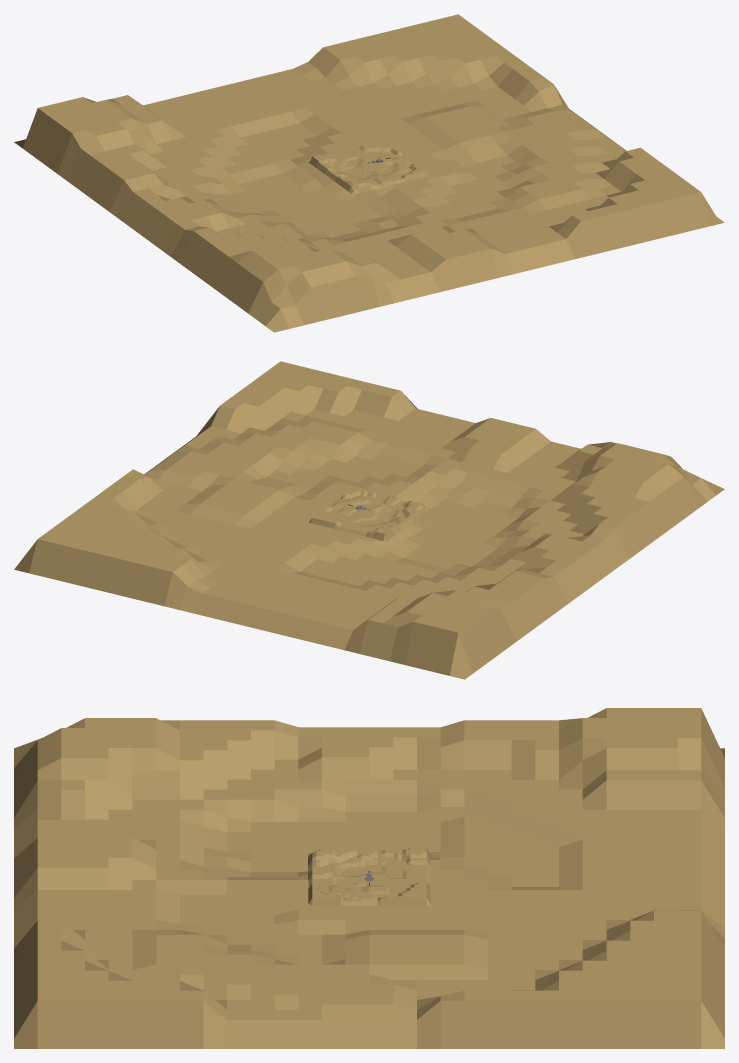
File: underwater.fbx
The picture shows the model from 3 angles, top to bottom: view 1: azimuth 30°, elevation 25°; view 2: azimuth 150°, elevation 25°; view 3: azimuth 270°, elevation 25°; orthographic projection. The views are drawn at different scales.
Parts seen in each view (by area): view 1: Plane.001, Plane; view 2: Plane.001, Plane; view 3: Plane.001, Plane.
Boxes of the visible parts, box(x1,y1,x2,y2) form: Plane.001: box(14, 14, 724, 332); Plane: box(308, 140, 428, 194); Plane.001: box(14, 361, 724, 679); Plane: box(308, 487, 430, 541); Plane.001: box(14, 708, 724, 1048); Plane: box(308, 847, 430, 905).
Bounding box in the file's own units: 61053 × 4772 × 61053.
